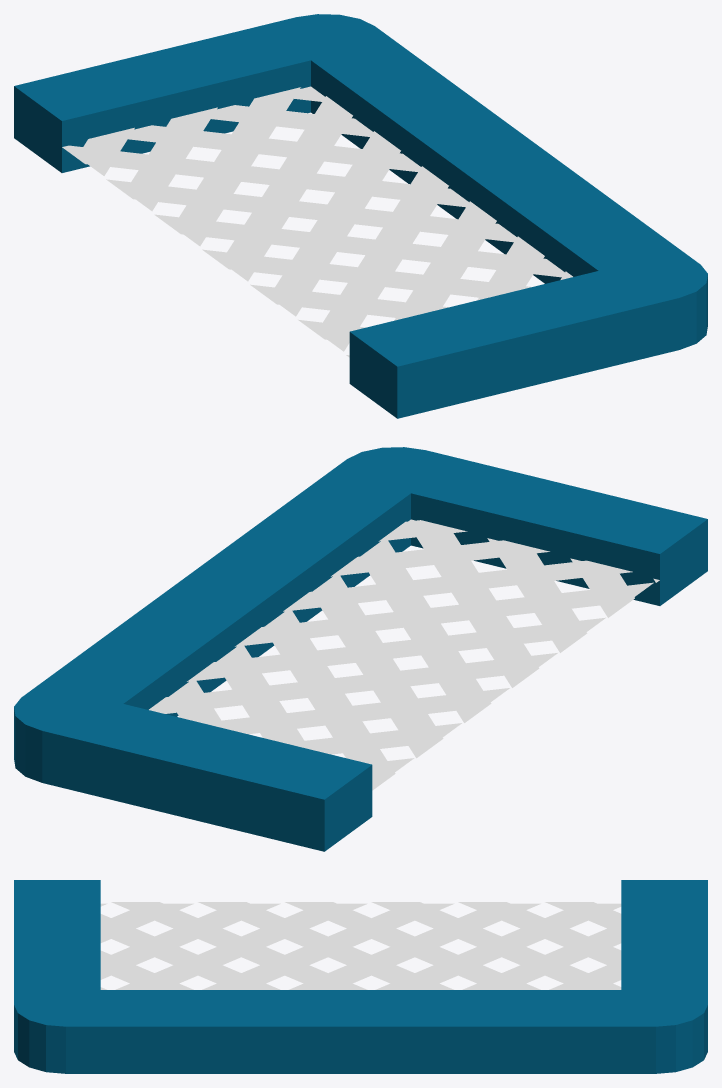
Rendered from G02_026_Floor_Mesh_S.fbx.
3 views of the same model, one above another, from view 1: azimuth 30°, elevation 25°; view 2: azimuth 150°, elevation 25°; view 3: azimuth 270°, elevation 25° (orthographic). The views are drawn at different scales.
Parts seen in each view (by area): view 1: 012_Mesh_S_B, 平面.049; view 2: 012_Mesh_S_B, 平面.049; view 3: 012_Mesh_S_B, 平面.049.
Boxes of the visible parts, x1,y1,x2,y2 form: 012_Mesh_S_B: (14, 14, 707, 418); 平面.049: (62, 86, 572, 357); 012_Mesh_S_B: (14, 447, 707, 851); 平面.049: (149, 519, 659, 790); 012_Mesh_S_B: (14, 880, 707, 1073); 平面.049: (100, 902, 621, 989).
Bounding box in the file's own units: 200 × 30 × 400.
